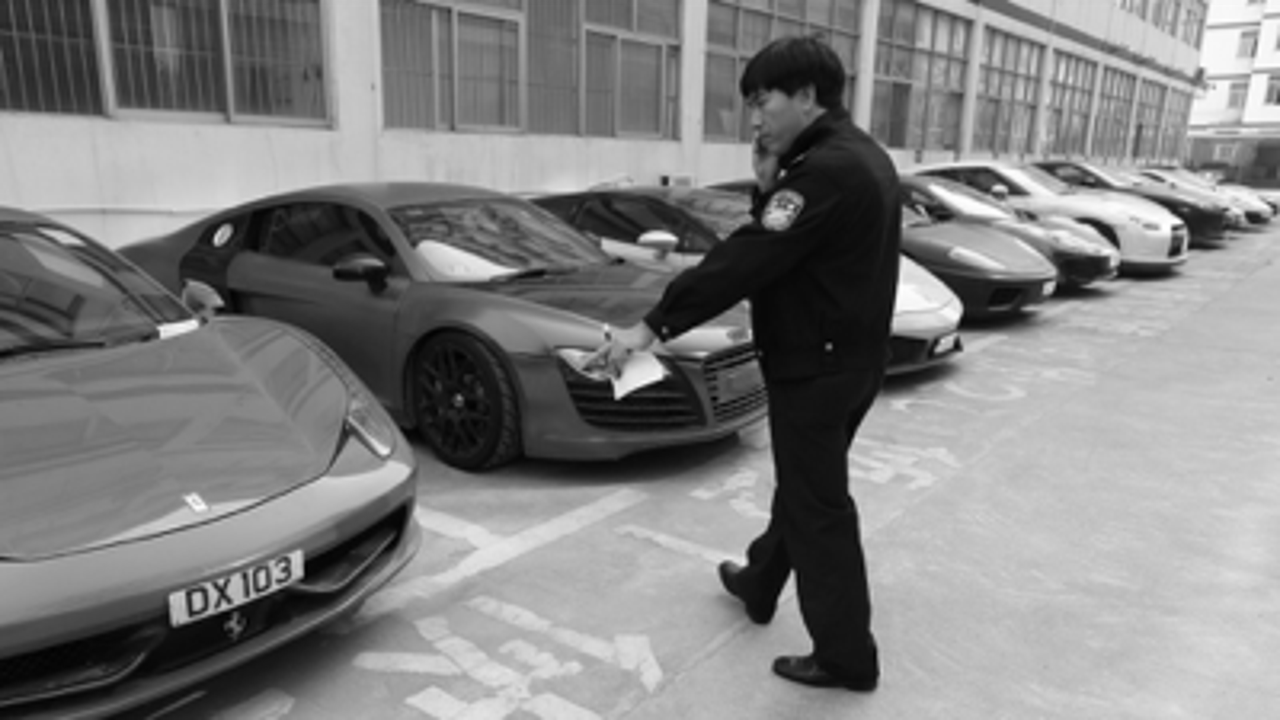license: (166, 545, 314, 637), (712, 353, 772, 409), (933, 327, 965, 360)
